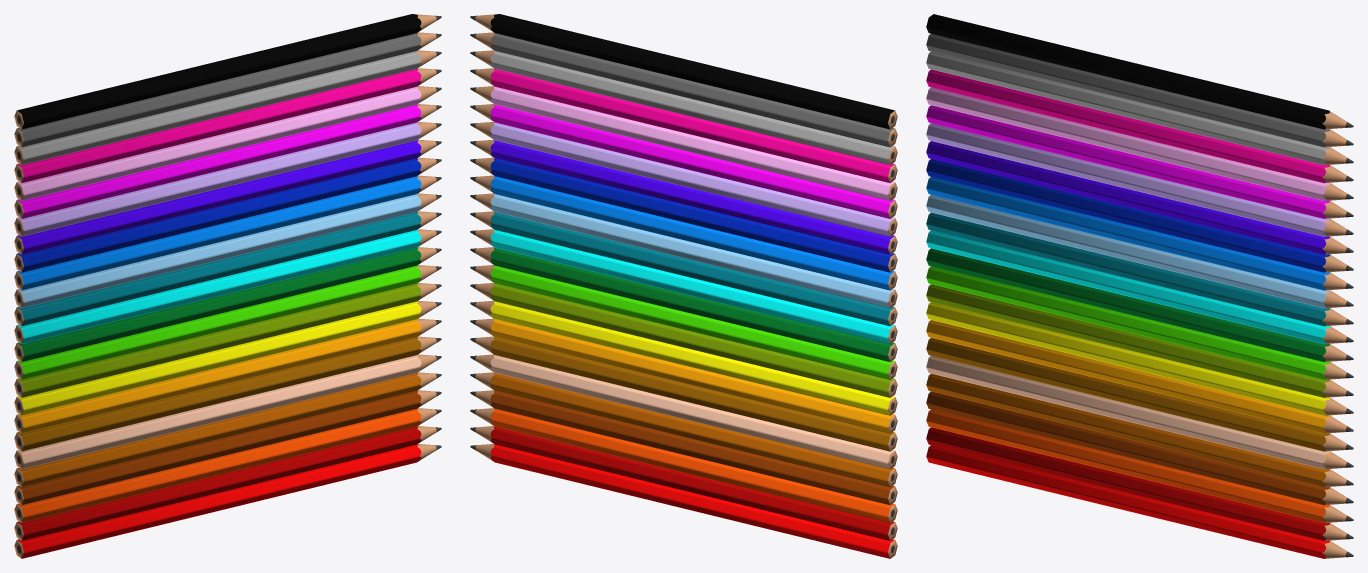
File: Pencil.glb
The picture shows the model from 3 angles, left to right: view 1: azimuth 30°, elevation 25°; view 2: azimuth 150°, elevation 25°; view 3: azimuth 330°, elevation 25°; orthographic projection.
Visible parts, largest first — view 1: Circle.024, Circle.020, Circle.002, Circle.008, Circle.009, Circle.011, Circle.012, Circle.004, Circle.006, Circle.007, Circle.010, Circle.017 (+13 smaller); view 2: Circle.024, Circle.020, Circle.002, Circle.008, Circle.009, Circle.010, Circle.011, Circle.012, Circle.004, Circle.006, Circle.007, Circle.017 (+13 smaller); view 3: Circle.024, Circle.005, Circle.006, Circle, Circle.004, Circle.011, Circle.012, Circle.016, Circle.017, Circle.008, Circle.010, Circle.015 (+13 smaller).
Boxes of the visible parts, x1,y1,x2,y2 form: Circle.024: (14,14,441,129); Circle.020: (14,50,441,165); Circle.002: (14,390,441,505); Circle.008: (14,229,441,344); Circle.009: (14,211,441,326); Circle.011: (14,193,441,308); Circle.012: (14,265,441,379); Circle.004: (14,336,441,451); Circle.006: (14,354,441,469); Circle.007: (14,372,441,487); Circle.010: (14,175,441,290); Circle.017: (14,139,441,254); Circle.024: (470,14,897,129); Circle.020: (470,50,897,165); Circle.002: (470,390,897,505); Circle.008: (470,229,897,344); Circle.009: (470,211,897,326); Circle.010: (470,175,897,290); Circle.011: (470,193,897,308); Circle.012: (470,265,897,379); Circle.004: (470,336,897,451); Circle.006: (470,354,897,469); Circle.007: (470,372,897,487); Circle.017: (470,139,897,254); Circle.024: (926,14,1353,129); Circle.005: (926,320,1353,433); Circle.006: (926,356,1353,469); Circle: (926,445,1353,558); Circle.004: (926,338,1353,451); Circle.011: (926,194,1353,308); Circle.012: (926,266,1353,379); Circle.016: (926,159,1353,272); Circle.017: (926,141,1353,254); Circle.008: (926,230,1353,344); Circle.010: (926,177,1353,290); Circle.015: (926,302,1353,415).
Bounding box in the file's own units: 49.4 × 49.73 × 2.
